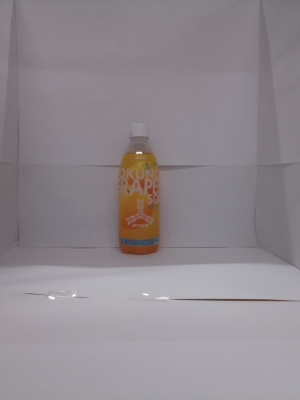グレープフルーツスカッシュ: (111, 119, 169, 263)
